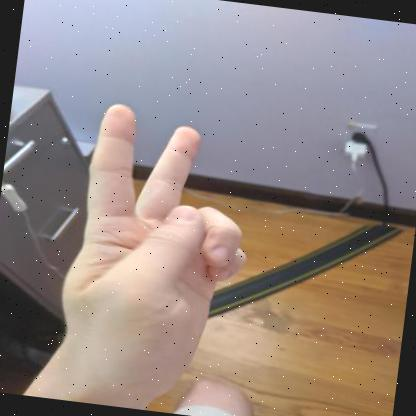K: (39, 104, 246, 394)
